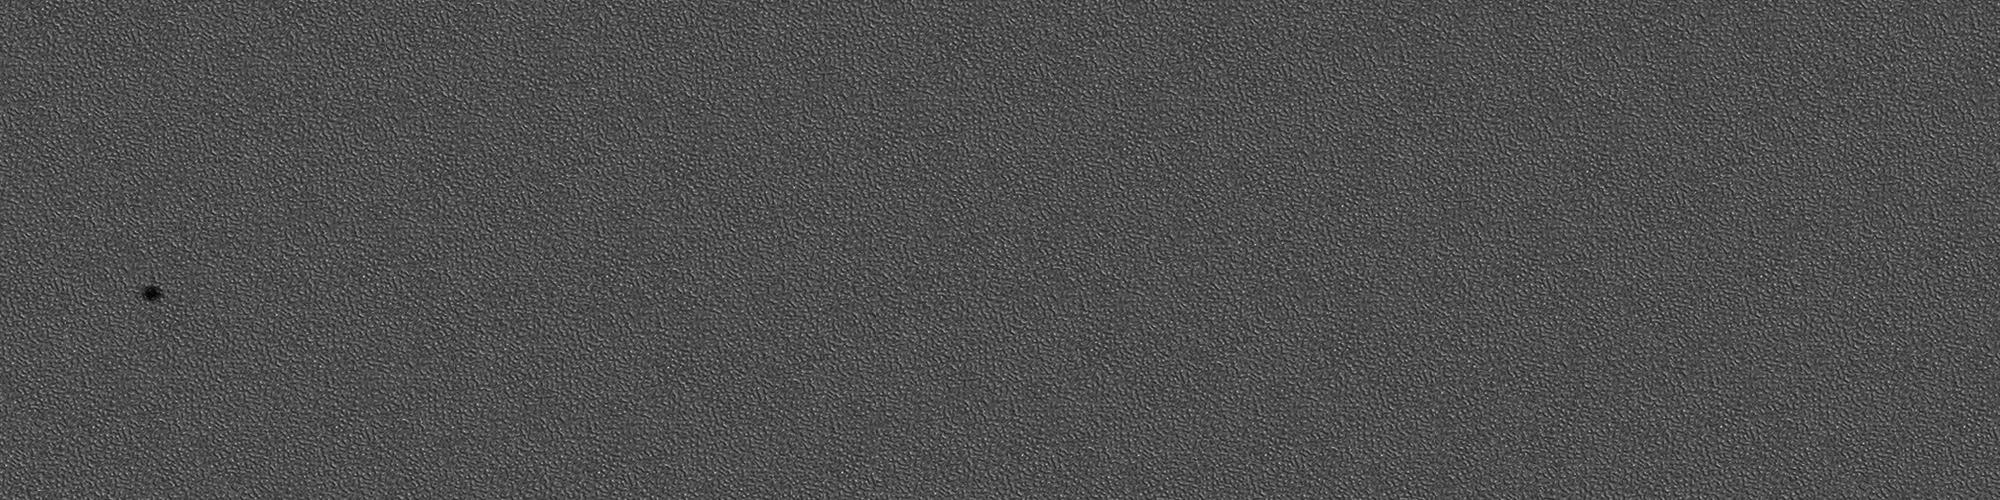Decomposed: (134, 277, 173, 307)
